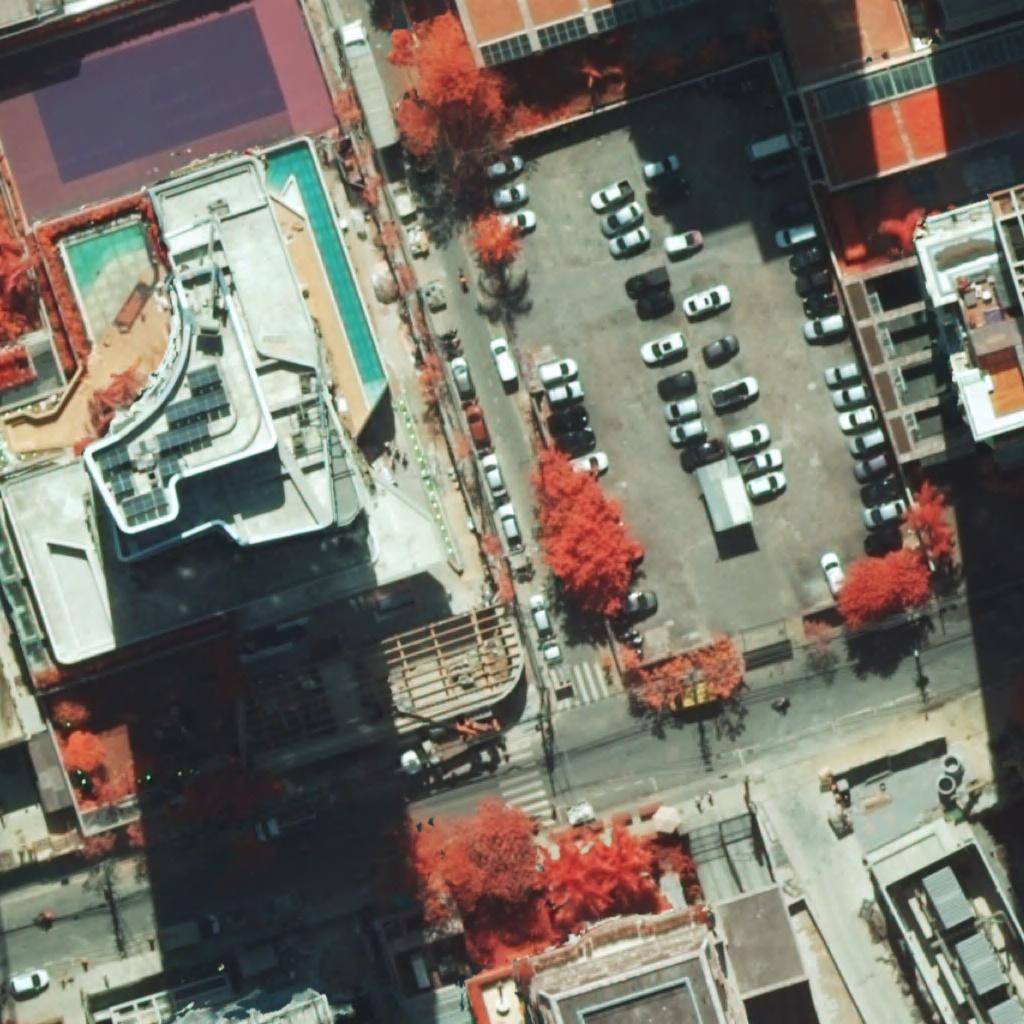pool: (266, 139, 386, 384), (66, 224, 147, 297)
